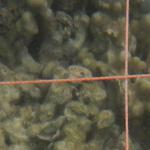dead: (1, 24, 144, 145)
